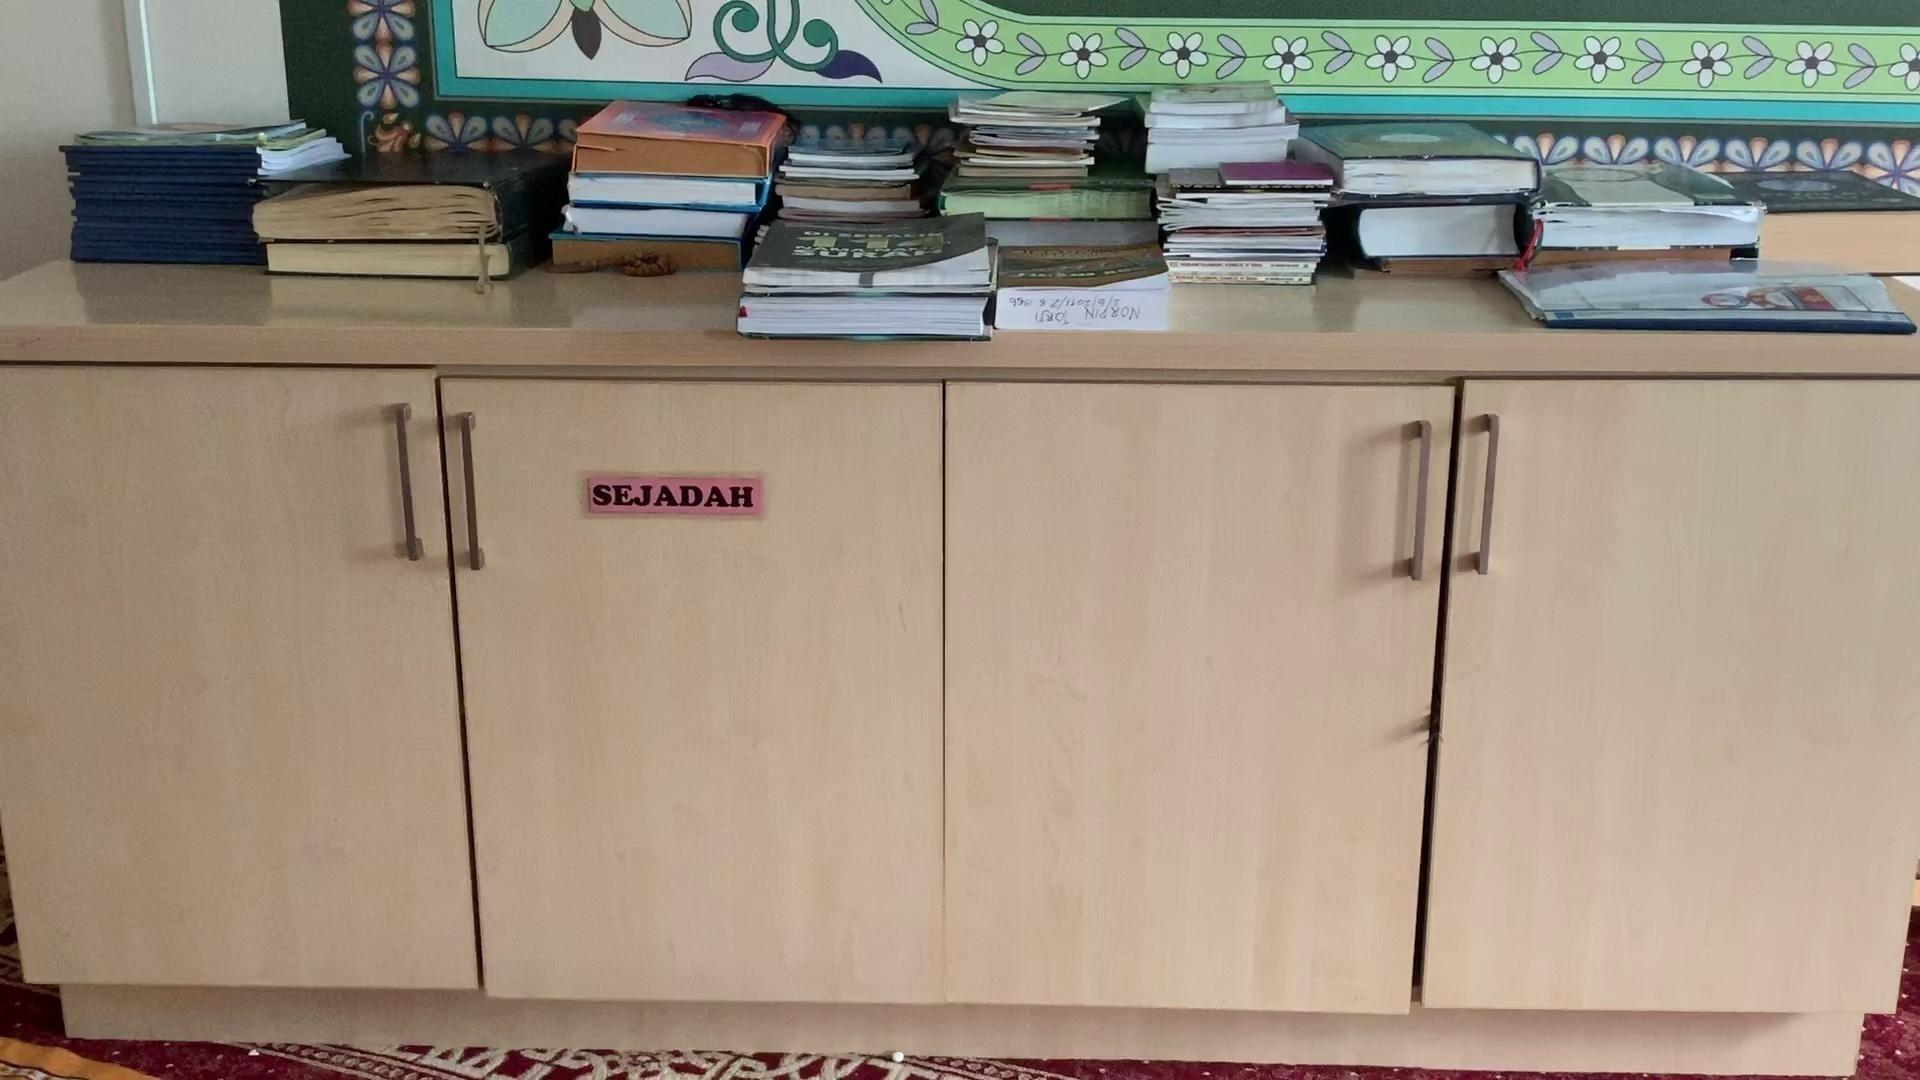cabinet_door: (942, 377, 1444, 1017), (1452, 376, 1920, 1025), (454, 384, 936, 1007), (11, 389, 459, 1000)
handle: (1386, 418, 1453, 584), (1460, 414, 1514, 575), (376, 402, 425, 572), (443, 410, 488, 570)
